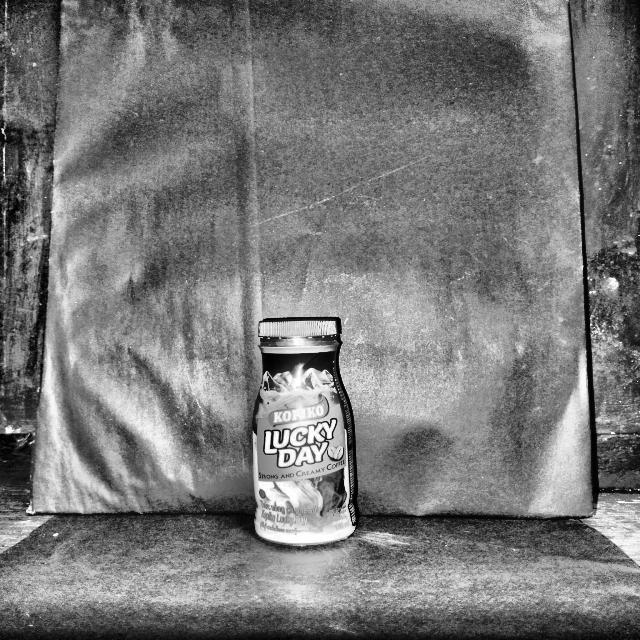Plastic-Bottle: (248, 315, 361, 550)
